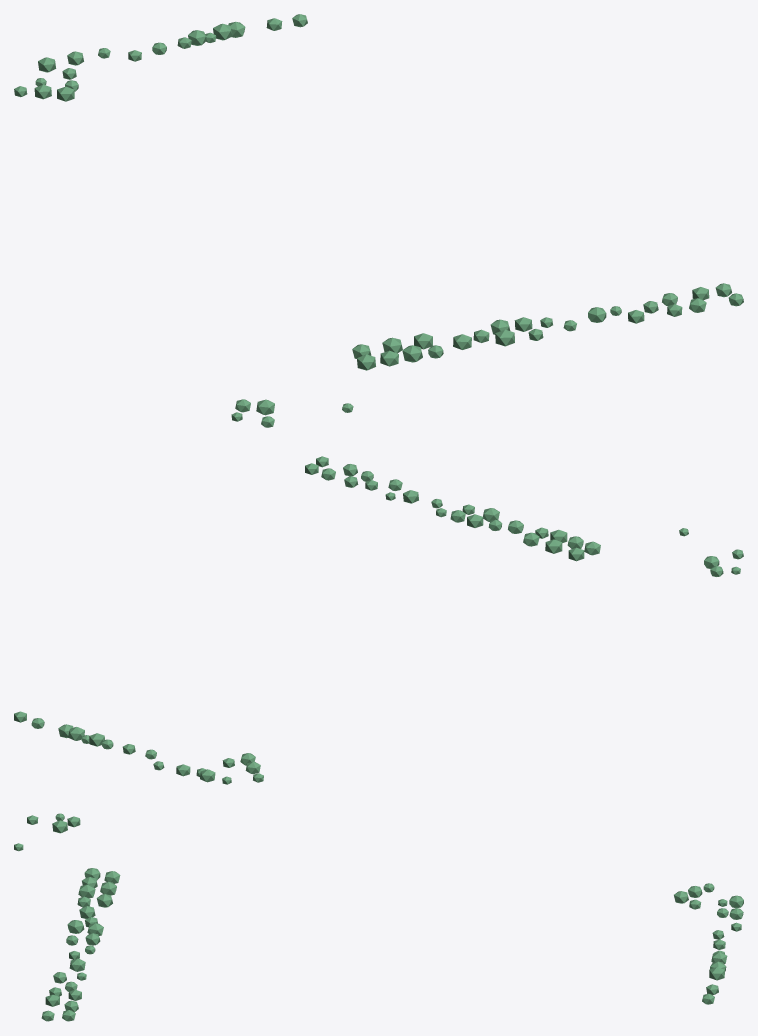
Rendered from Pampulha_VEG_ARBUSTOS.fbx.
3 renders of one model, top to bottom at view 1: azimuth 30°, elevation 25°; view 2: azimuth 150°, elevation 25°; view 3: azimuth 270°, elevation 25°, orthographic. The views are drawn at different scales.
Parts seen in each view (by area): view 1: Pampulha_VEG_ARBUSTOS; view 2: Pampulha_VEG_ARBUSTOS; view 3: Pampulha_VEG_ARBUSTOS.
Boxes of the visible parts, box(x1,y1,x2,y2) form: Pampulha_VEG_ARBUSTOS: box(14, 14, 743, 427); Pampulha_VEG_ARBUSTOS: box(14, 456, 743, 784); Pampulha_VEG_ARBUSTOS: box(14, 813, 743, 1021).
Size of the model in its own units: 35.24 by 1.51 by 52.88.
